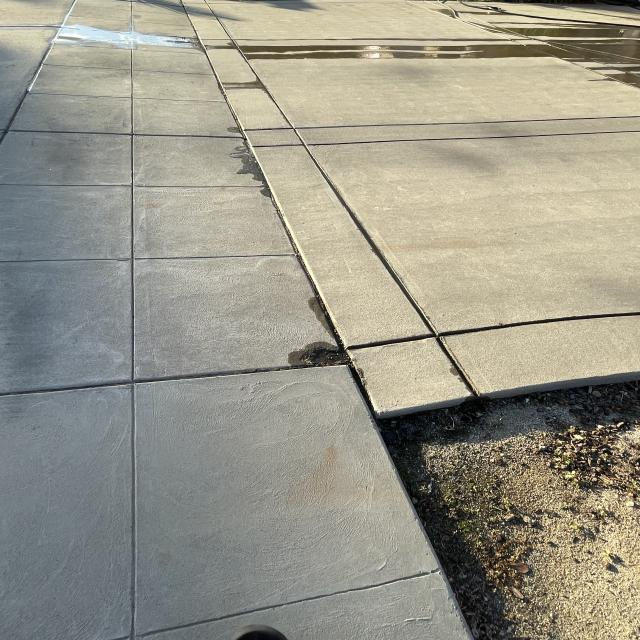walkway: (23, 397, 372, 638), (25, 92, 226, 392), (74, 7, 189, 198)
walkway-edge: (359, 398, 521, 640), (256, 170, 394, 421)
